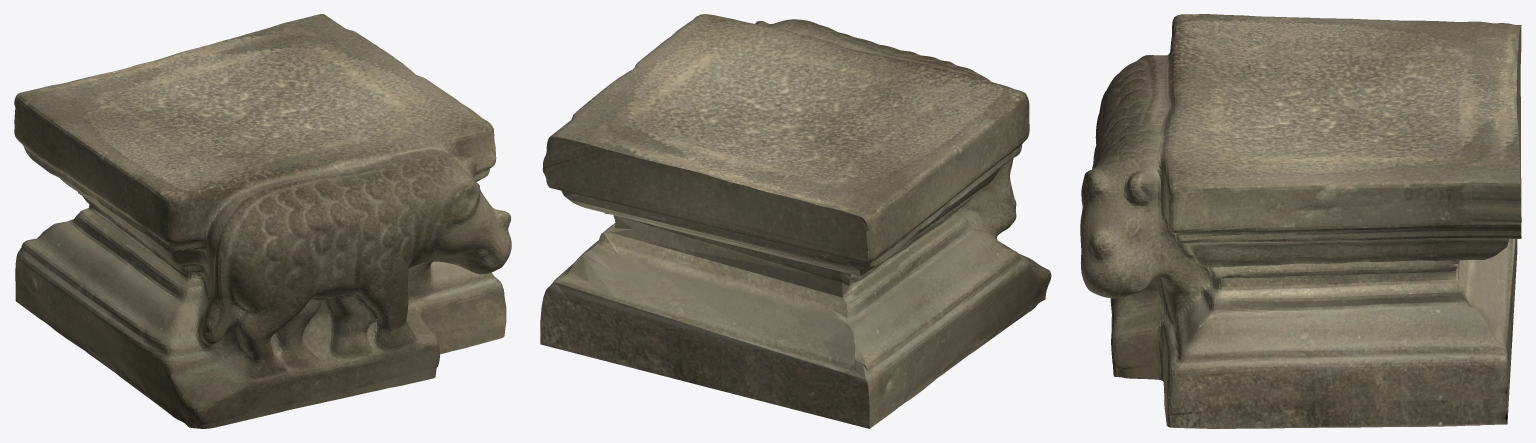
The model's file is 11_tegiac_final.glb.
The picture shows the model from 3 angles, left to right: view 1: azimuth 30°, elevation 25°; view 2: azimuth 150°, elevation 25°; view 3: azimuth 270°, elevation 25°; orthographic projection. The views are drawn at different scales.
Bounding box in the file's own units: 0.3451 × 0.2118 × 0.3539.
1 material, 1 textured.
